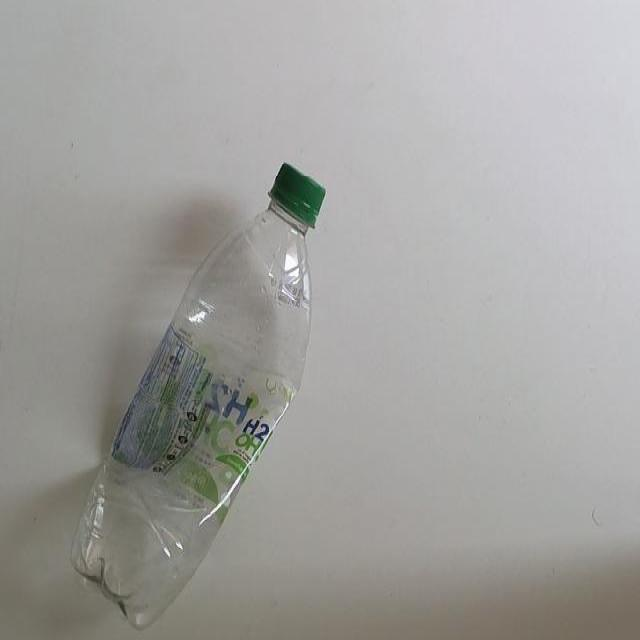defect: (67, 158, 329, 634)
